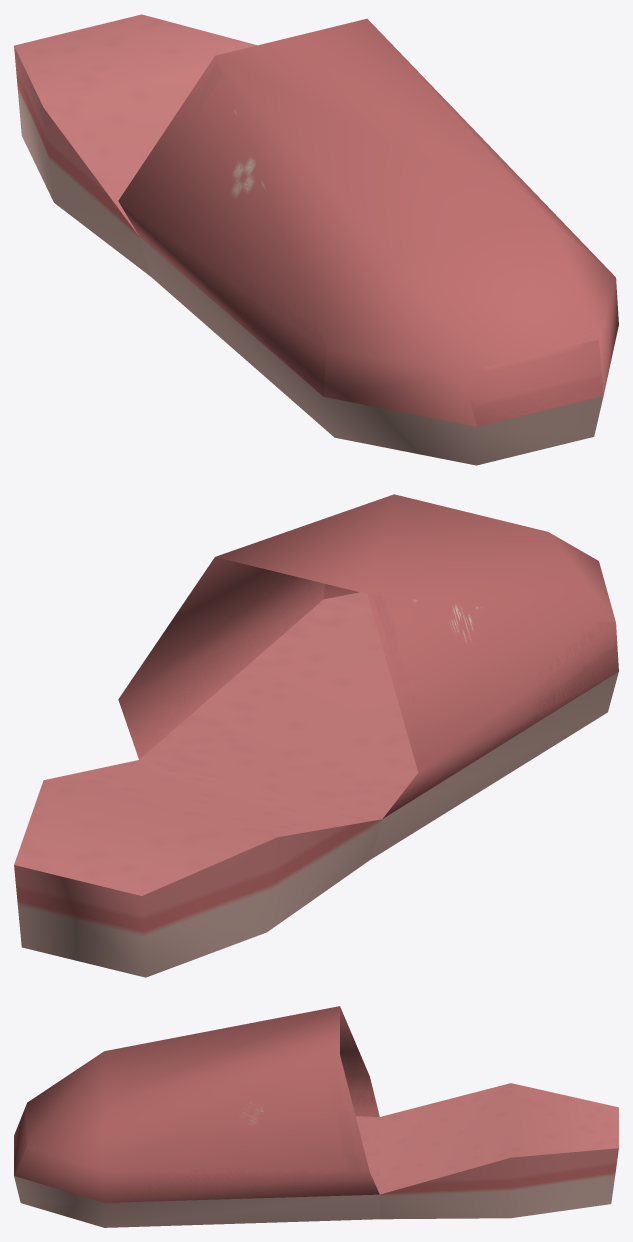
3 views of the same model, one above another, from view 1: azimuth 30°, elevation 25°; view 2: azimuth 150°, elevation 25°; view 3: azimuth 270°, elevation 25° (orthographic). The views are drawn at different scales.
Parts seen in each view (by area): view 1: part_0; view 2: part_0; view 3: part_0.
Part boxes in pixels (box(x1,y1,x2,y2)): part_0: box(14, 14, 618, 465); part_0: box(14, 494, 618, 977); part_0: box(14, 1006, 618, 1227).
Size of the model in its own units: 12.89 by 9.66 by 34.41.
Materials: 1 (1 with a texture image).
